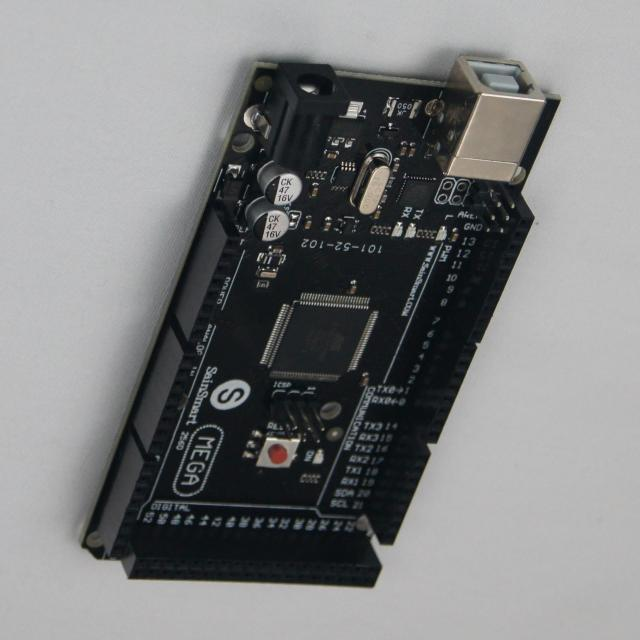Arduino Mega 2560 -Black-: (85, 55, 560, 587)
